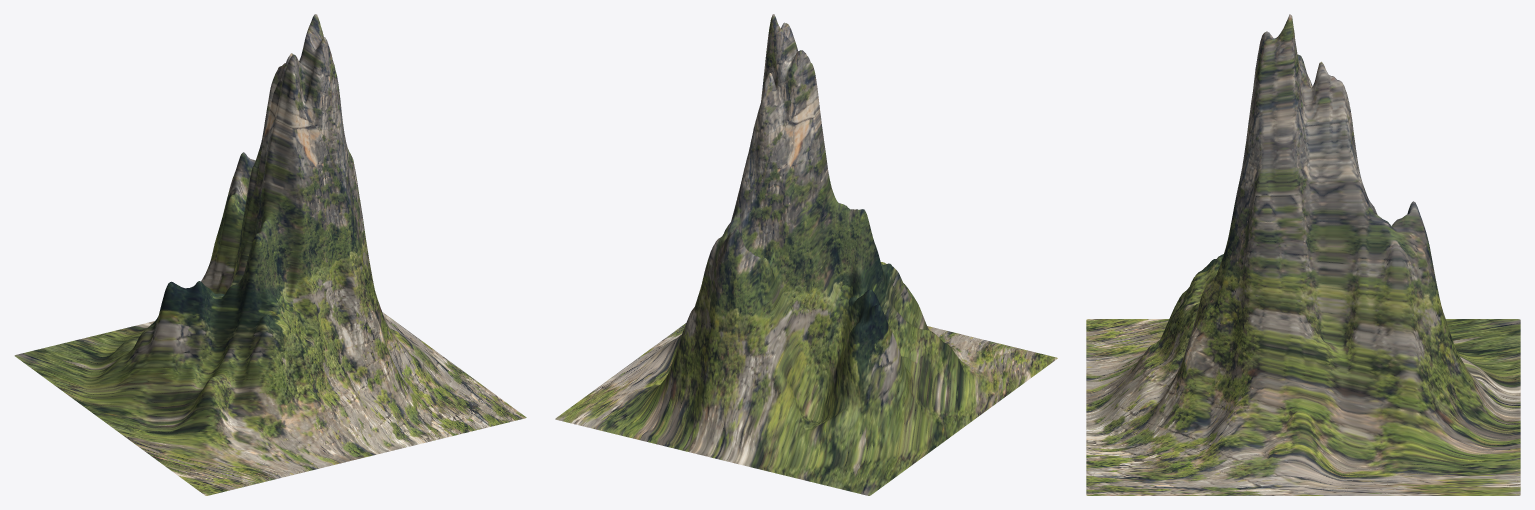
The model's file is Mountain_model.dae.
3 renders of one model, left to right at view 1: azimuth 30°, elevation 25°; view 2: azimuth 150°, elevation 25°; view 3: azimuth 270°, elevation 25°, orthographic. The views are drawn at different scales.
Parts seen in each view (by area): view 1: Landscape; view 2: Landscape; view 3: Landscape.
Part boxes in pixels (x1=…): Landscape: x1=14, y1=14, x2=526, y2=495; Landscape: x1=555, y1=14, x2=1057, y2=495; Landscape: x1=1086, y1=14, x2=1520, y2=495.
Bounding box in the file's own units: 320 × 332 × 350.
Materials: 1 (1 with a texture image).
